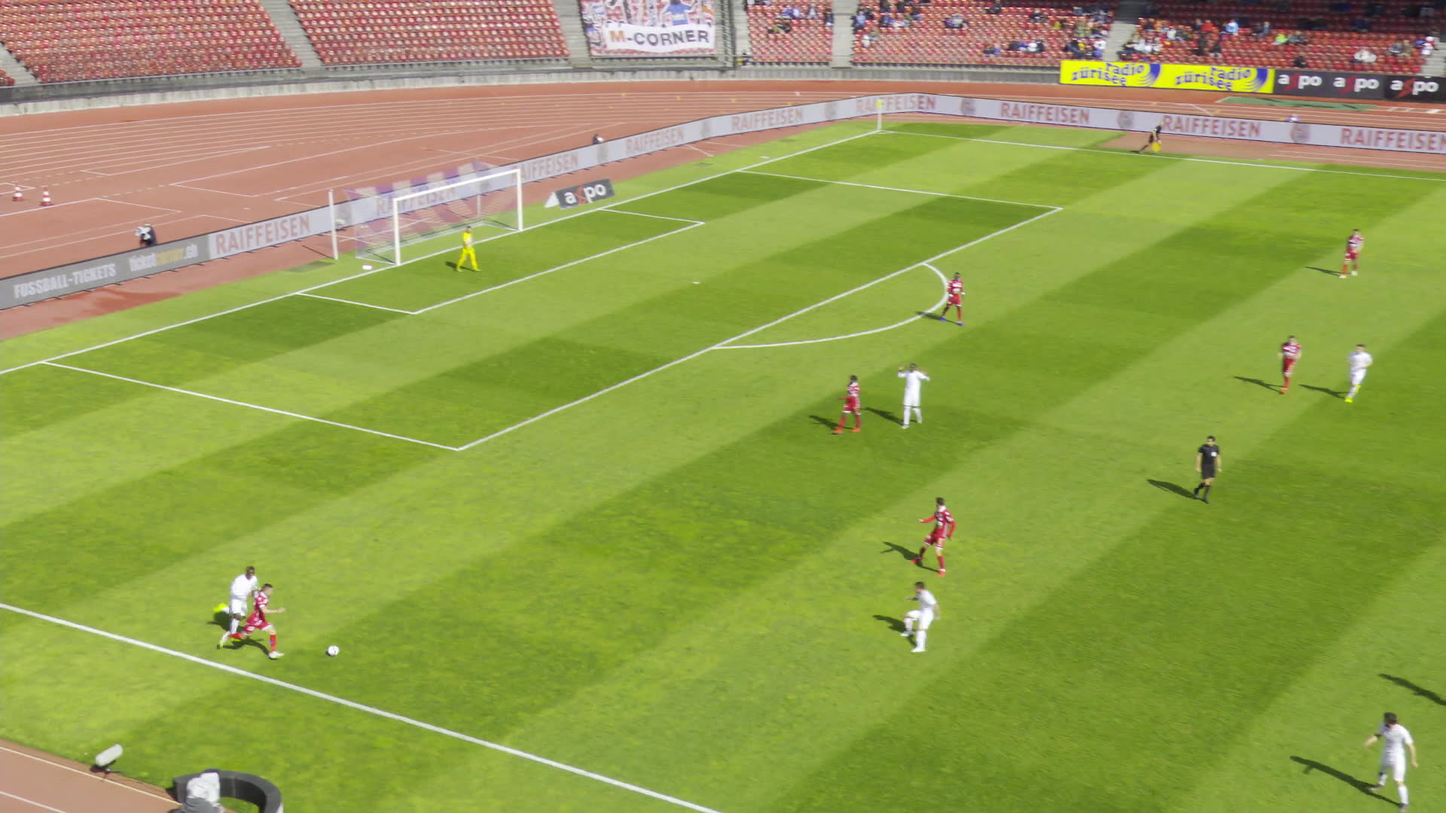ball: (327, 645, 339, 655)
player: (1366, 711, 1420, 811), (219, 583, 285, 657), (910, 497, 955, 577), (211, 565, 258, 640), (900, 581, 940, 650), (896, 363, 930, 428), (831, 374, 862, 433), (1350, 343, 1380, 402), (1280, 336, 1307, 393), (946, 272, 972, 327), (1343, 229, 1369, 279), (454, 224, 480, 271)
referee: (1193, 436, 1225, 504), (1142, 122, 1167, 154)
